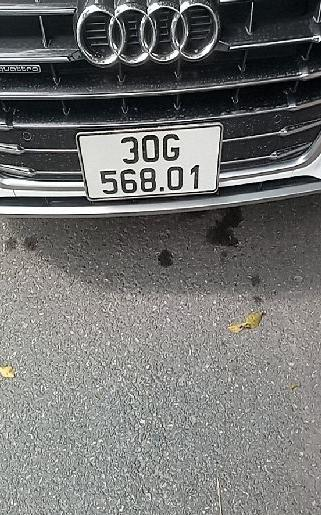Plate-iWeP: (77, 128, 223, 202)
